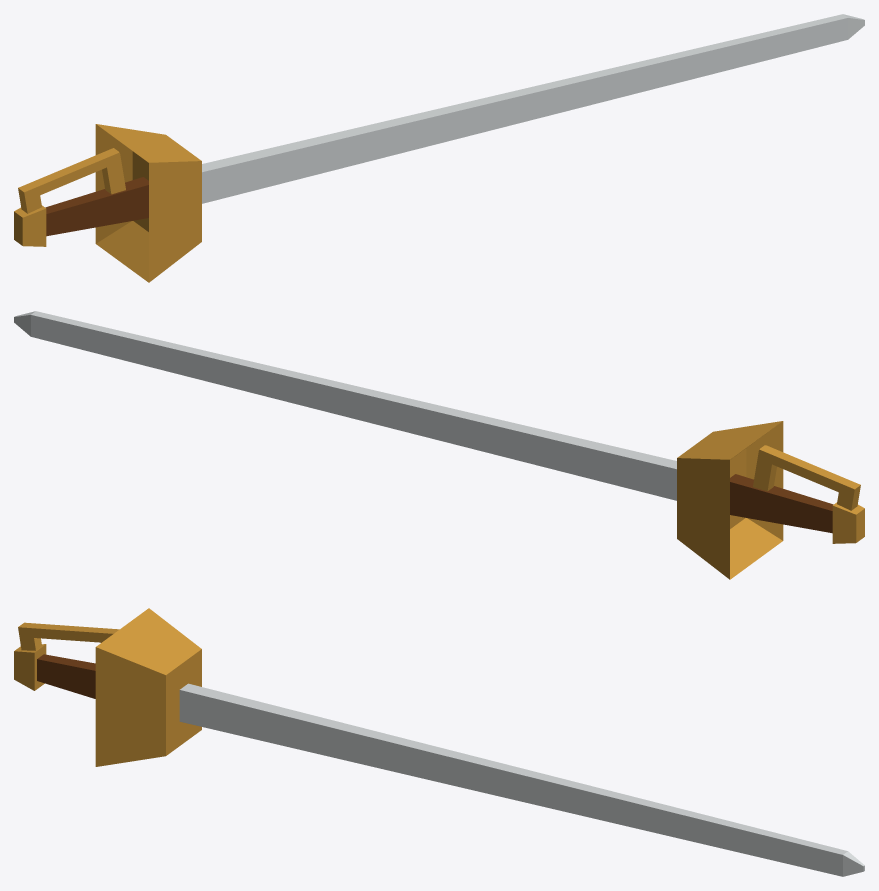
File: rapier.fbx
The picture shows the model from 3 angles, top to bottom: view 1: azimuth 30°, elevation 25°; view 2: azimuth 150°, elevation 25°; view 3: azimuth 330°, elevation 25°; orthographic projection.
Visible parts, largest first — view 1: rapier; view 2: rapier; view 3: rapier.
Part boxes in pixels (<box>): rapier: <box>14,14,864,282</box>; rapier: <box>14,311,864,579</box>; rapier: <box>14,608,864,876</box>.
Size of the model in its own units: 247 by 33.55 by 26.94.
